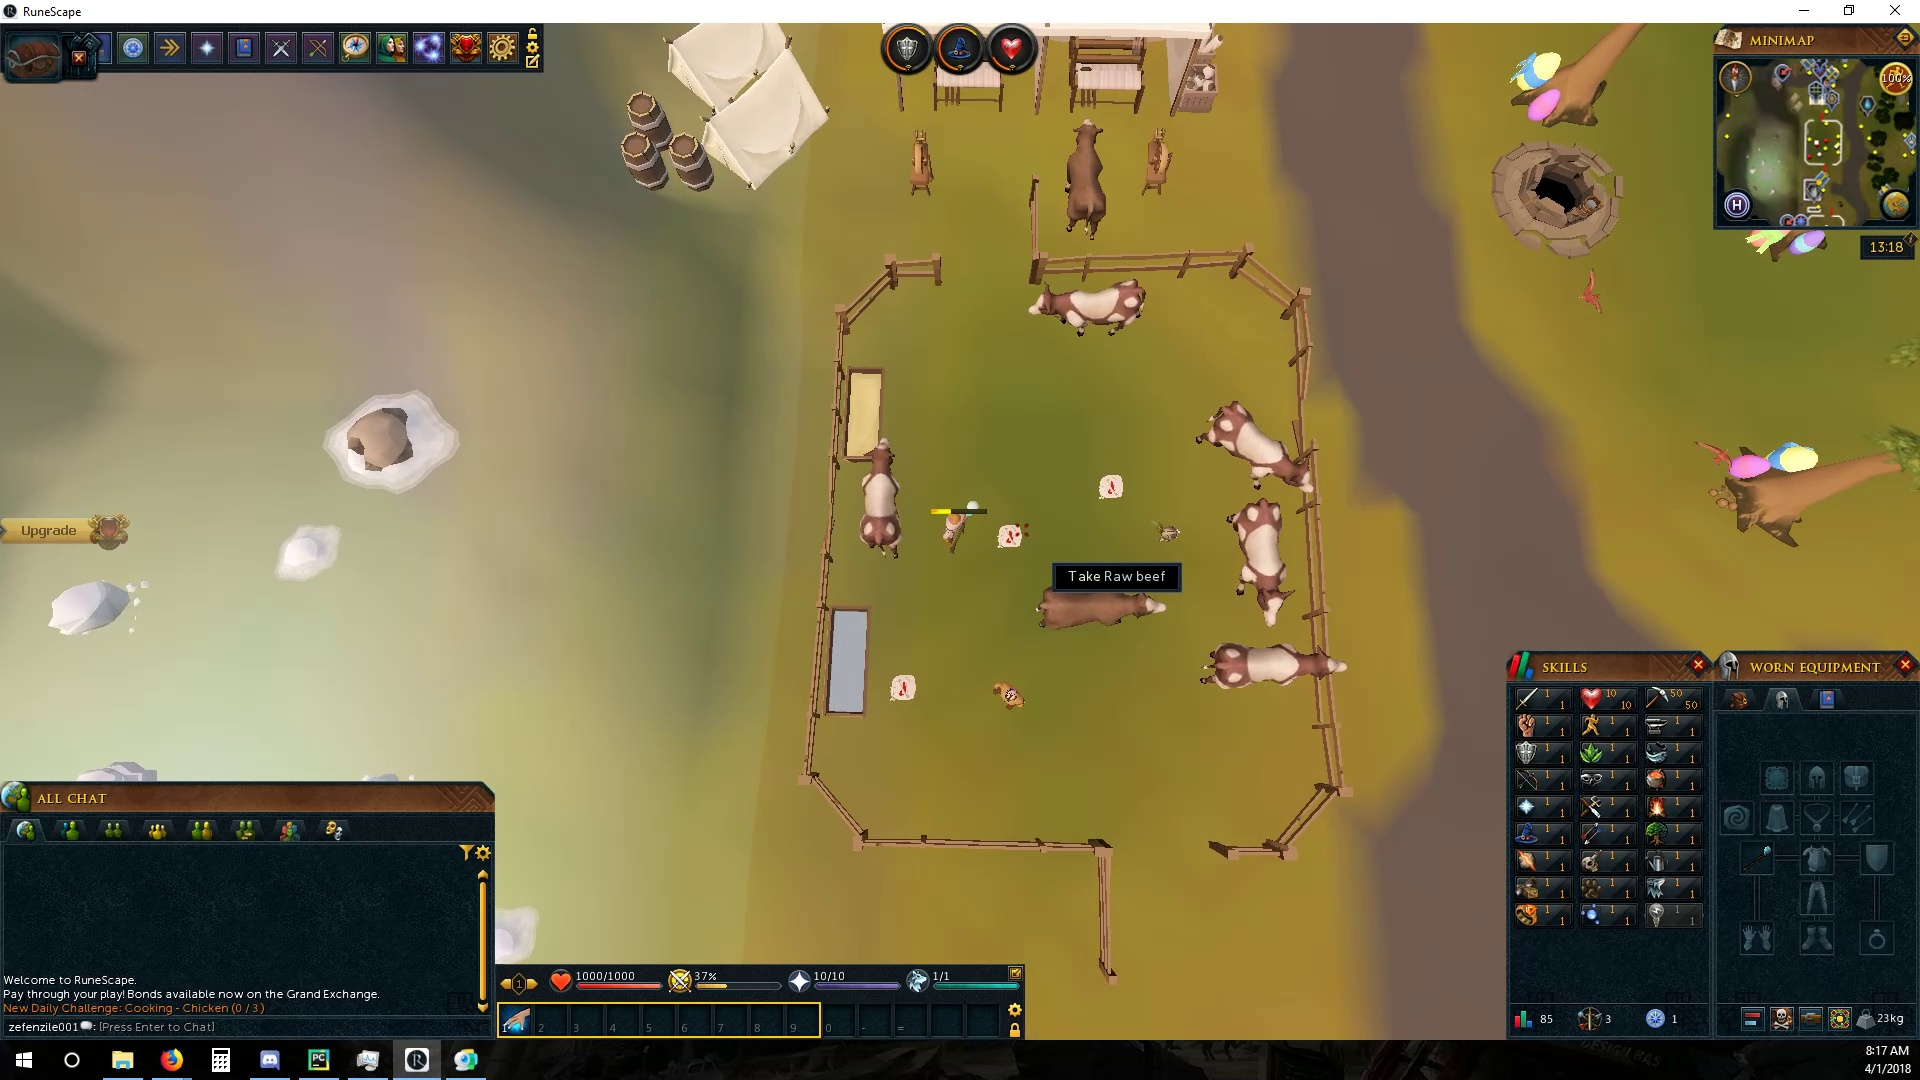cow: (1195, 400, 1316, 491), (1026, 270, 1150, 344), (1226, 500, 1296, 628), (1197, 638, 1353, 692), (1029, 582, 1174, 632), (855, 436, 909, 560), (1062, 117, 1112, 244)
cow_drop: (885, 673, 920, 705), (1092, 471, 1124, 502), (992, 524, 1026, 547)
